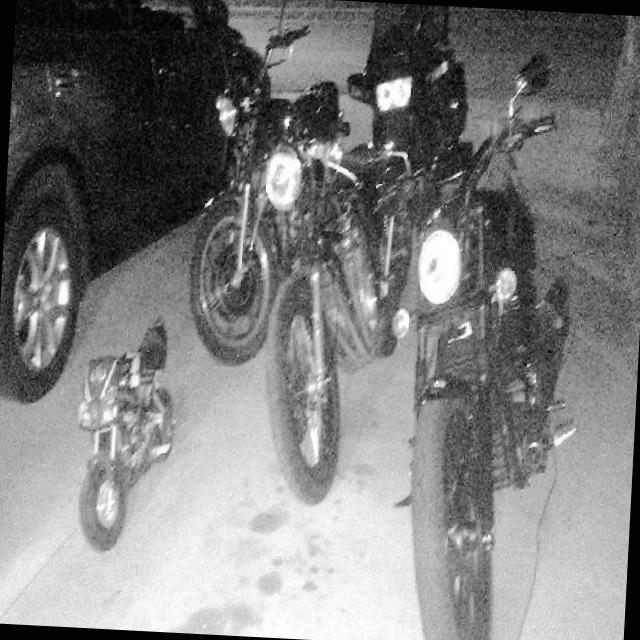Car: (0, 0, 271, 399)
Motorcycle: (241, 0, 443, 575), (398, 70, 585, 640), (155, 0, 323, 313), (66, 300, 182, 574)
